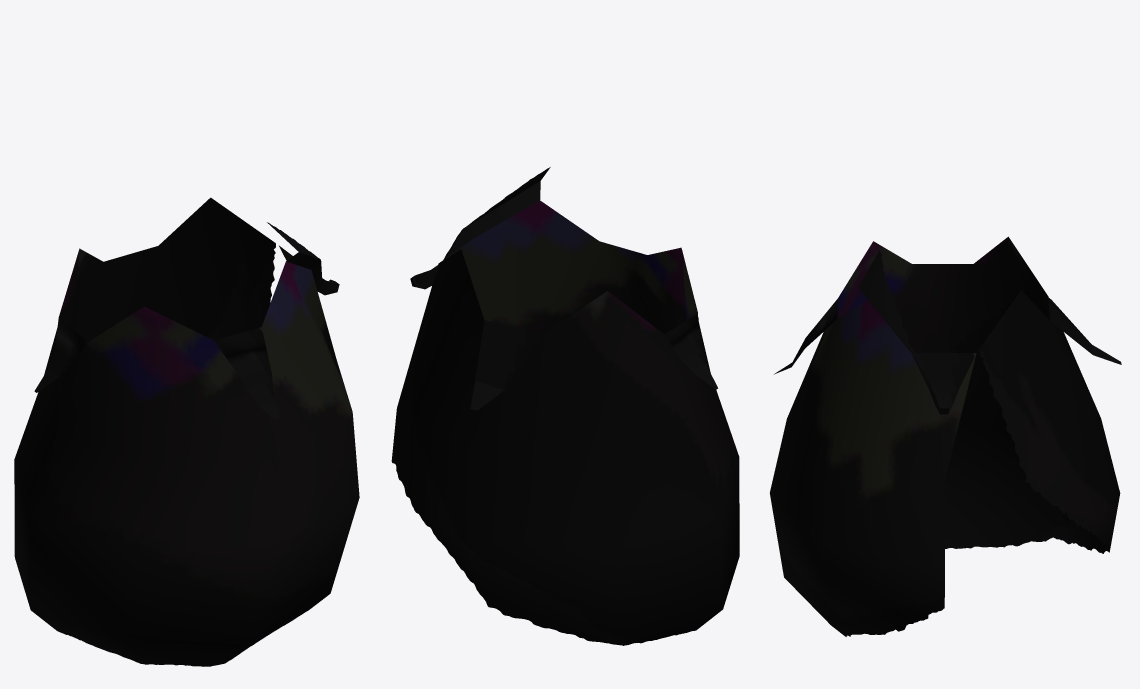
File: eggplant.fbx
3 views of the same model, side by side, from view 1: azimuth 30°, elevation 25°; view 2: azimuth 150°, elevation 25°; view 3: azimuth 270°, elevation 25° (orthographic). The views are drawn at different scales.
Visible parts, largest first — view 1: Eggplant_Small; view 2: Eggplant_Small; view 3: Eggplant_Small.
Part boxes in pixels (x1,y1,x2,y2): Eggplant_Small: (14, 197, 359, 666); Eggplant_Small: (391, 167, 739, 645); Eggplant_Small: (770, 236, 1121, 636).
Size of the model in its own units: 29.21 by 58.25 by 29.61.
